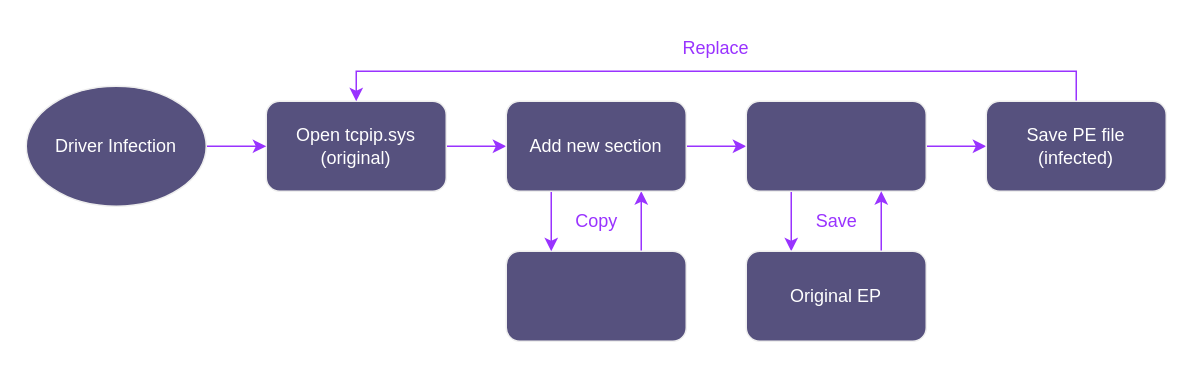
Image size: 1193x368. Some labels were removed from this diagram. The shapes that lost their labels are listed below. From the top down, each one's box as (x1, y1, x2, y2) in pixels, then its label:
(745, 100, 926, 191): Set EP to the new section
(505, 250, 686, 341): Payload Driver
